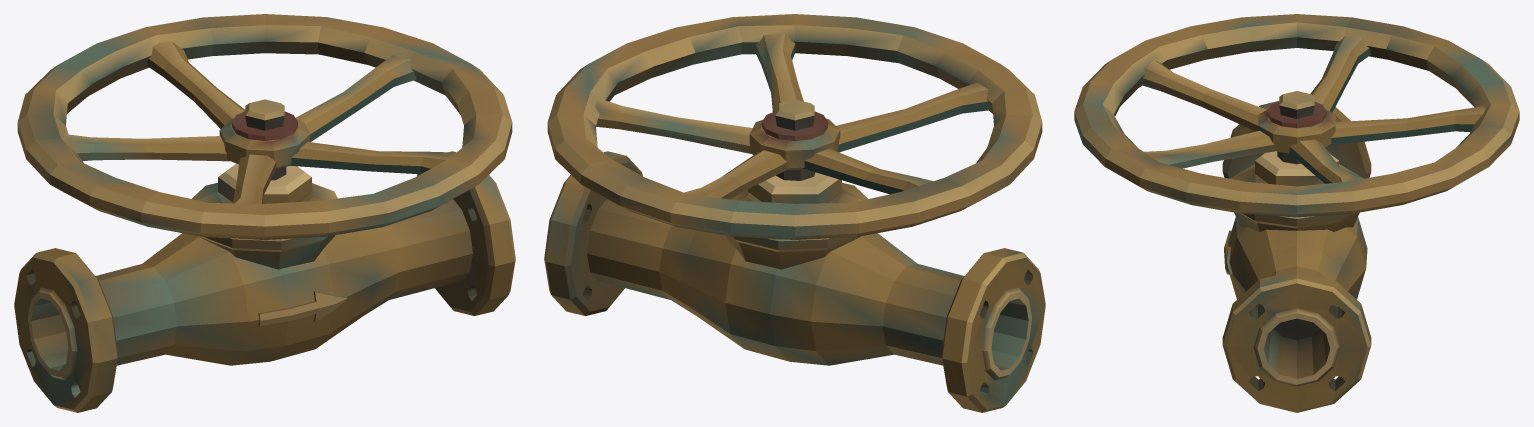
Rendered from brass-valve.glb.
3 renders of one model, left to right at view 1: azimuth 30°, elevation 25°; view 2: azimuth 150°, elevation 25°; view 3: azimuth 270°, elevation 25°, orthographic. The views are drawn at different scales.
Parts seen in each view (by area): view 1: Brass valve; view 2: Brass valve; view 3: Brass valve.
Part boxes in pixels (x1,y1,x2,y2): Brass valve: (14,14,515,412); Brass valve: (544,14,1045,412); Brass valve: (1074,14,1519,412).
Size of the model in its own units: 0.36 by 0.2 by 0.36.
